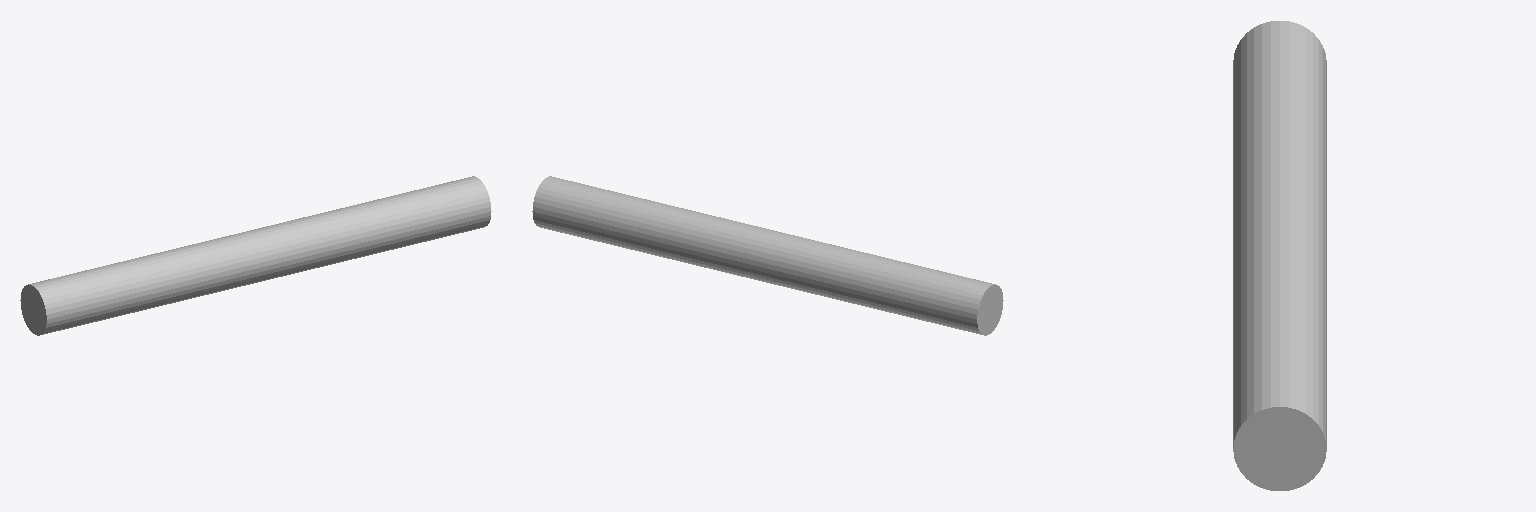
The robot description file, URDF, robot "rod":
<?xml version="1.0" encoding="utf-8"?>
<robot name="rod">
  <link name="rod_Link">
    <inertial>
      <origin xyz="0 0 0" rpy="0 0 0"/>
      <mass value="0.8"/>
      <inertia ixx="0.001" iyy="0.001" izz="0.0005" ixy="0" ixz="0" iyz="0"/>
    </inertial>
    <visual>
      <origin xyz="0 0 0" rpy="0 -1.57 0"/>
      <geometry><cylinder length="0.8" radius="0.041"/></geometry>
      <material name="gray"><color rgba="0.8 0.8 0.8 1"/></material>
    </visual>
    <collision>
      <origin xyz="0 0 0" rpy="0 -1.57 0"/>
      <geometry><cylinder length="0.8" radius="0.041"/></geometry>
    </collision>
  </link>
</robot>

--- What the picture shows (computed from the rendered views, not written in the file) ---
The picture shows the robot from 3 angles, left to right: view 1: azimuth 30°, elevation 25°; view 2: azimuth 150°, elevation 25°; view 3: azimuth 270°, elevation 25°; orthographic projection.
Robot: rod — 1 links, 0 joints (none); root link rod_Link; default pose: all joints at 0.
Visible links, largest first — view 1: rod_Link; view 2: rod_Link; view 3: rod_Link.
Link boxes in pixels (x1,y1,x2,y2): rod_Link: [20, 176, 491, 335]; rod_Link: [532, 176, 1003, 335]; rod_Link: [1233, 21, 1326, 490].
Size in the robot's own frame: 0.8001 by 0.082 by 0.0826 metres.
Geometry: primitives only (box / cylinder / sphere), no mesh files.
